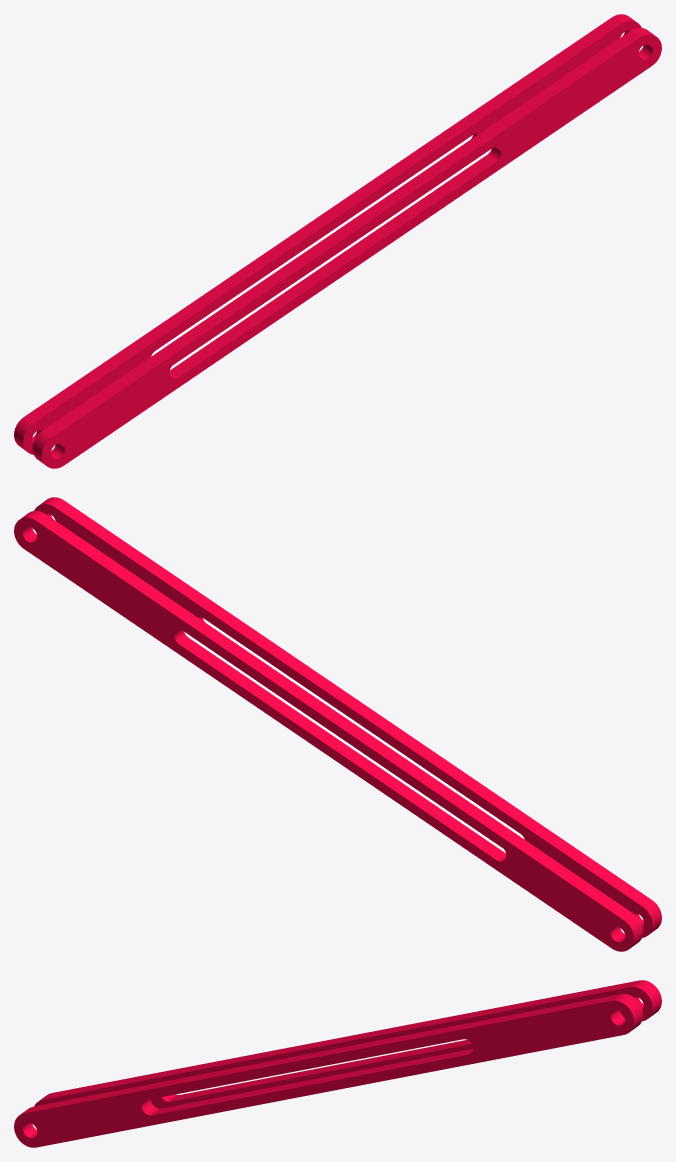
3 renders of one model, top to bottom at view 1: azimuth 30°, elevation 25°; view 2: azimuth 150°, elevation 25°; view 3: azimuth 330°, elevation 25°, orthographic.
Size of the model in its own units: 0.7362 by 0.3288 by 0.0574.
